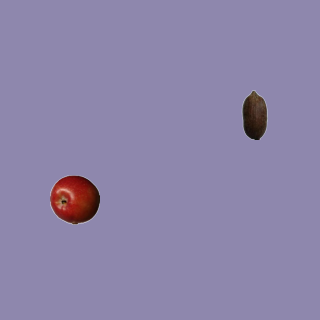Apple Braeburn: (49, 174, 99, 224)
Nut Pecan: (229, 89, 279, 139)
